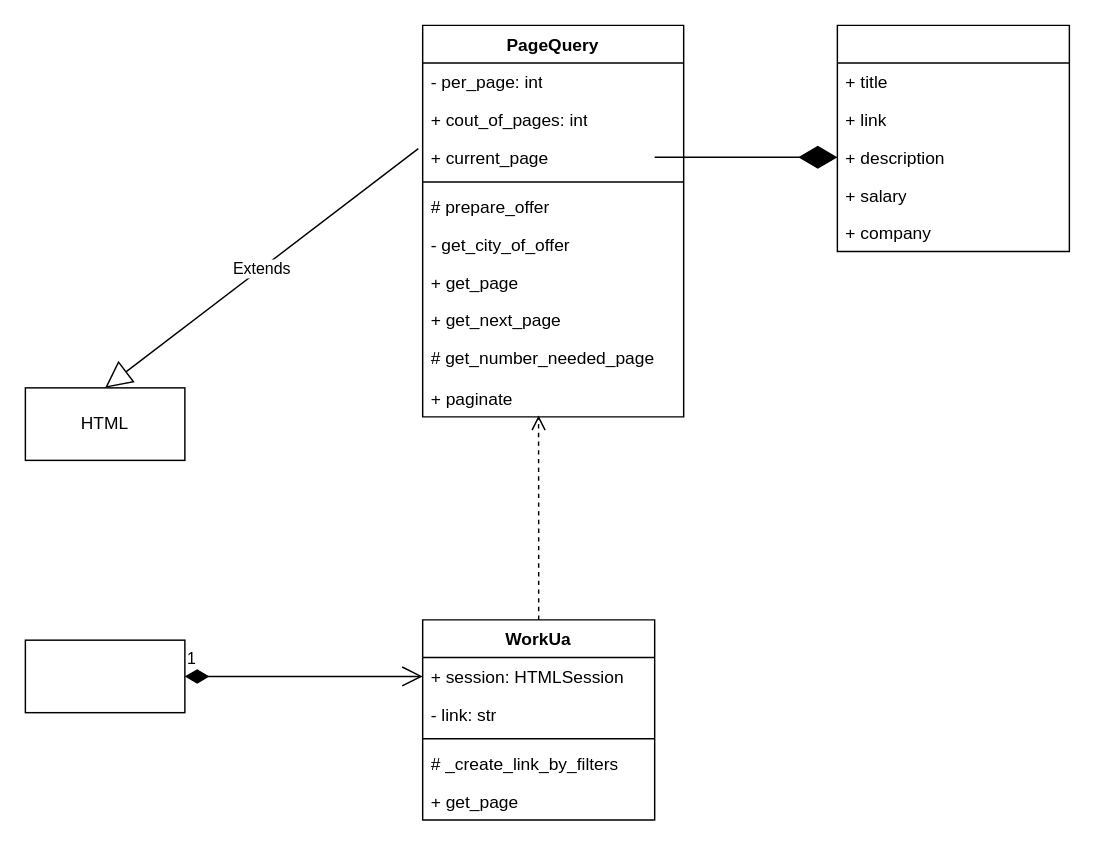
Image size: 1095x850. Some labels were removed from this diagram. The box of each missing label's shape, as (x1, y1, x2, y2) in pixels:
HTMLSession: (24, 639, 185, 713)
OfferModel: (836, 24, 1069, 252)
